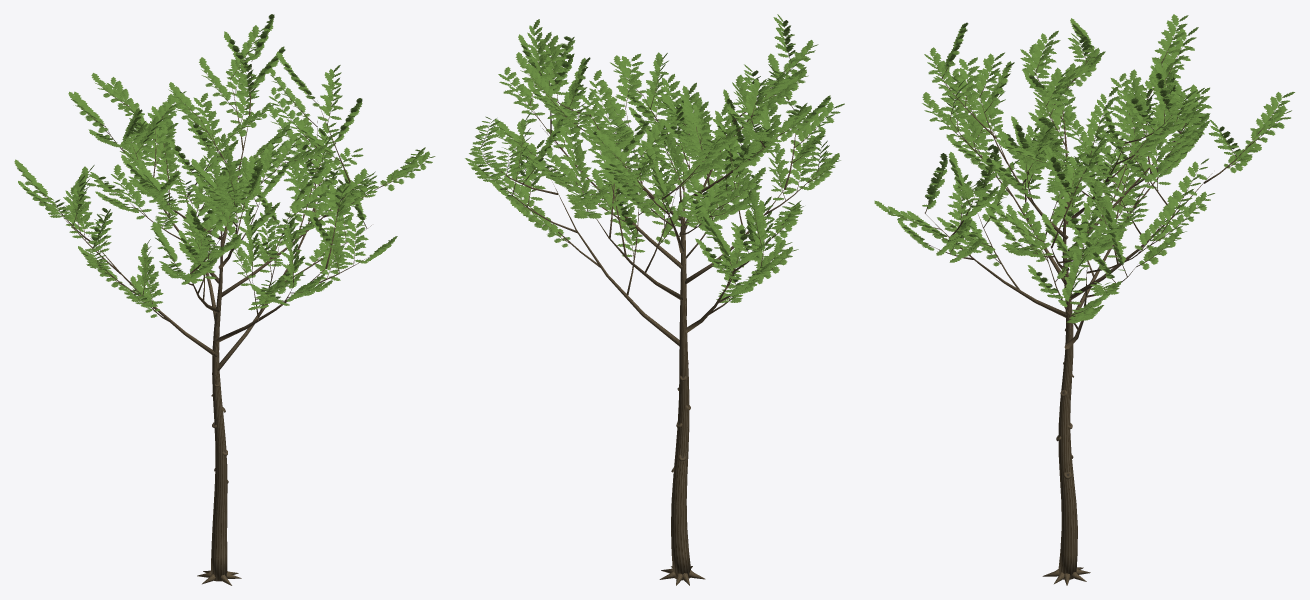
File: Sessile_Oak_Mature_02_HighPruned_Healed_LOD0.fbx
The picture shows the model from 3 angles, left to right: view 1: azimuth 30°, elevation 25°; view 2: azimuth 150°, elevation 25°; view 3: azimuth 270°, elevation 25°; orthographic projection. The views are drawn at different scales.
Parts seen in each view (by area): view 1: Sessile_Oak_Mature_02_HighPruned_Healed_LOD0; view 2: Sessile_Oak_Mature_02_HighPruned_Healed_LOD0; view 3: Sessile_Oak_Mature_02_HighPruned_Healed_LOD0.
Boxes of the visible parts, left/top/right/bottom form: Sessile_Oak_Mature_02_HighPruned_Healed_LOD0: left=14, top=14, right=435, bottom=585; Sessile_Oak_Mature_02_HighPruned_Healed_LOD0: left=465, top=14, right=844, bottom=585; Sessile_Oak_Mature_02_HighPruned_Healed_LOD0: left=874, top=14, right=1294, bottom=585.
Bounding box in the file's own units: 1544 × 2201 × 1501.
3 materials, 2 textured.
